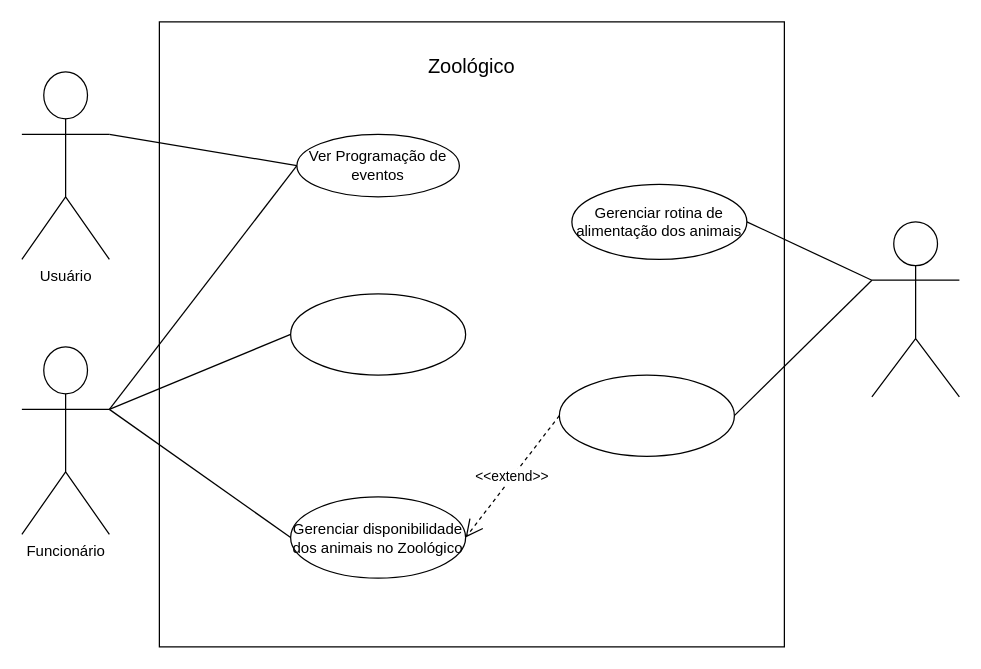
Image size: 981x669. Some labels were removed from this diagram. The box of each missing label's shape, as (x1, y1, x2, y2) in pixels:
Alterar programação de eventos: (289, 292, 466, 375)
Reportar status dos animais: (558, 374, 734, 456)
Veterinário: (871, 221, 959, 397)
